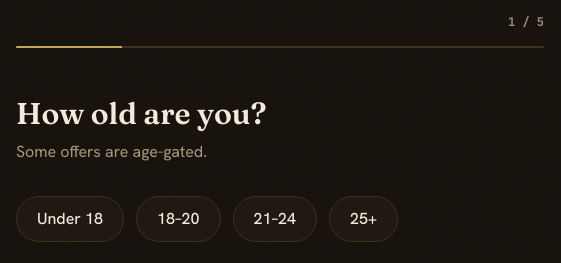
Test case: Quiz › double-tapping a single-select chip never skips a step
// Two fast taps on the same age chip must not jump past the student step.
Double-click the button "Under 18": {"x": 70, "y": 219} [16,196,124,242]
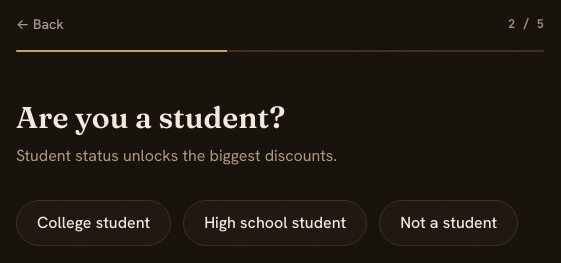
Now the heading "Are you a student?" is shown, box [16,99,285,136]
